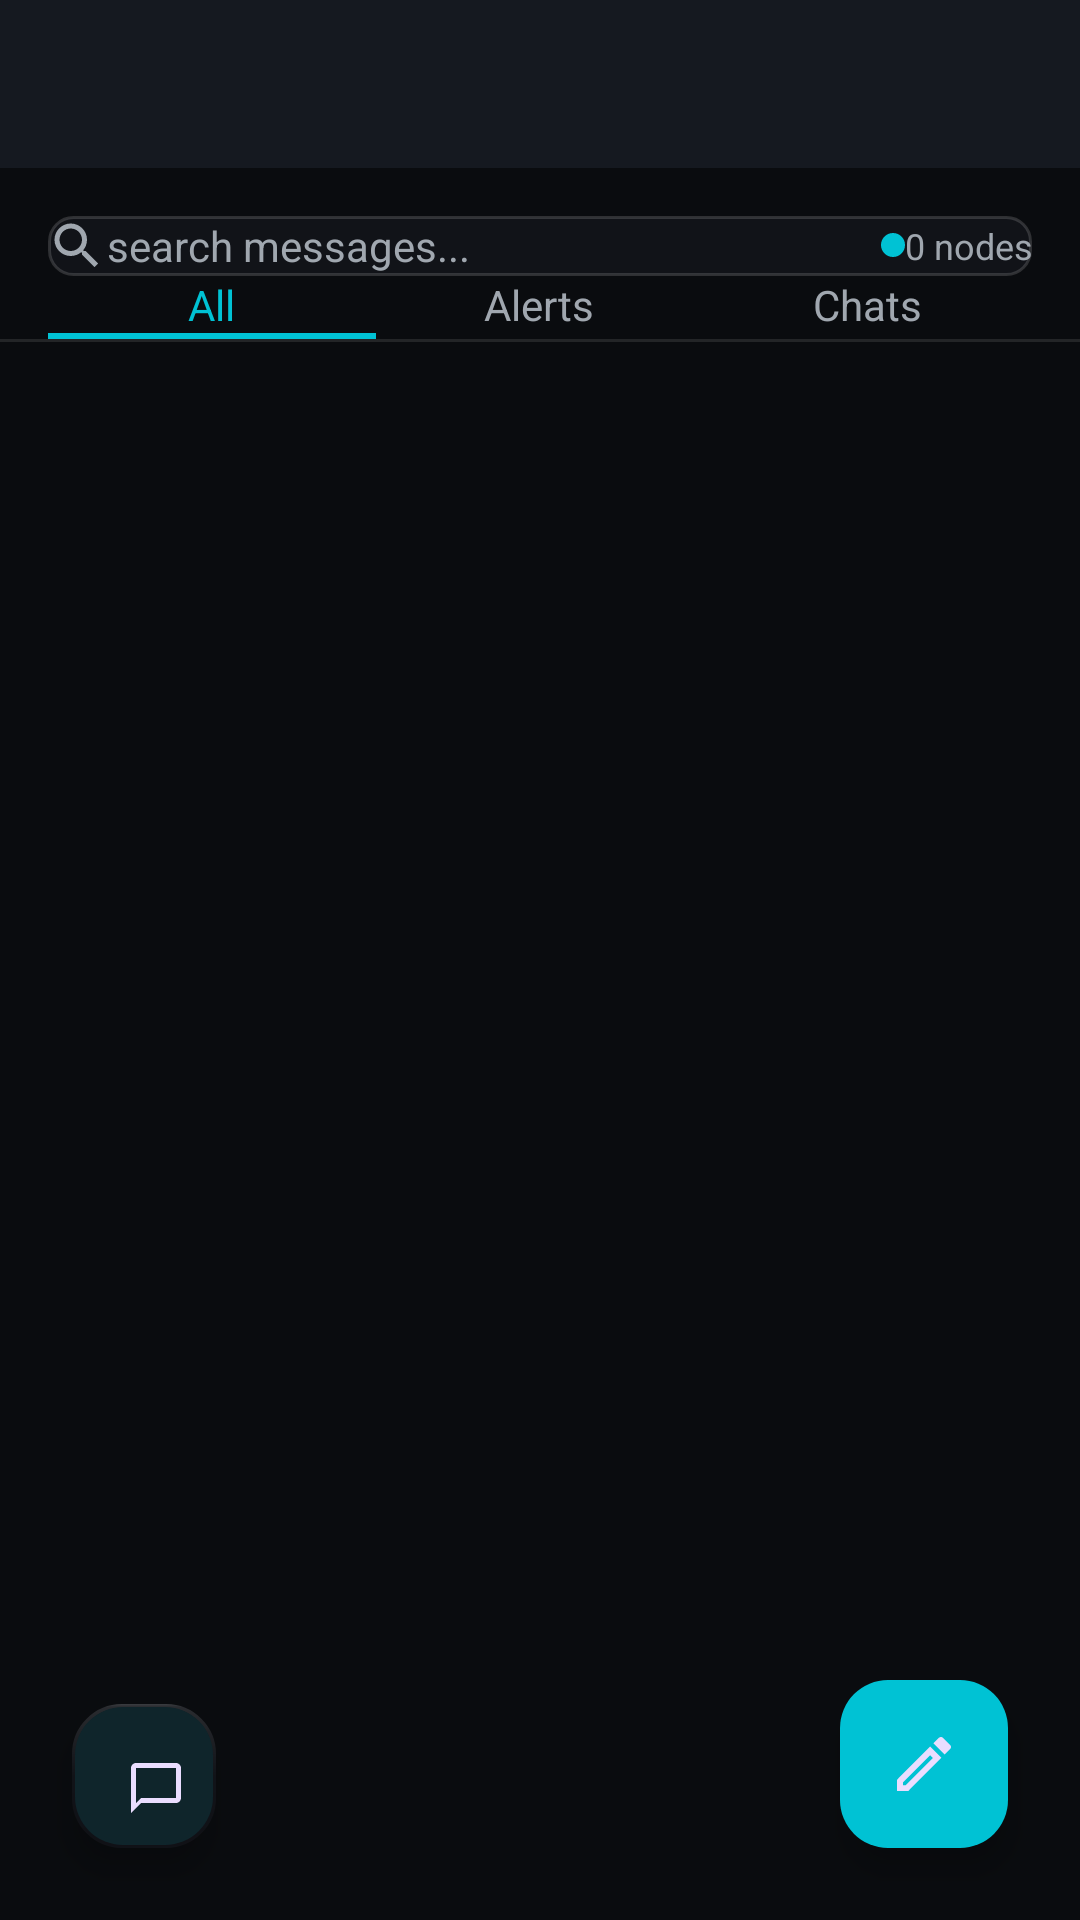

Where icons sit on this 1080 x 1920 app screen, as (x1, y1, x2, y2):
new broadcast: (840, 1680, 1008, 1848)
private chats: (75, 1704, 213, 1845)
